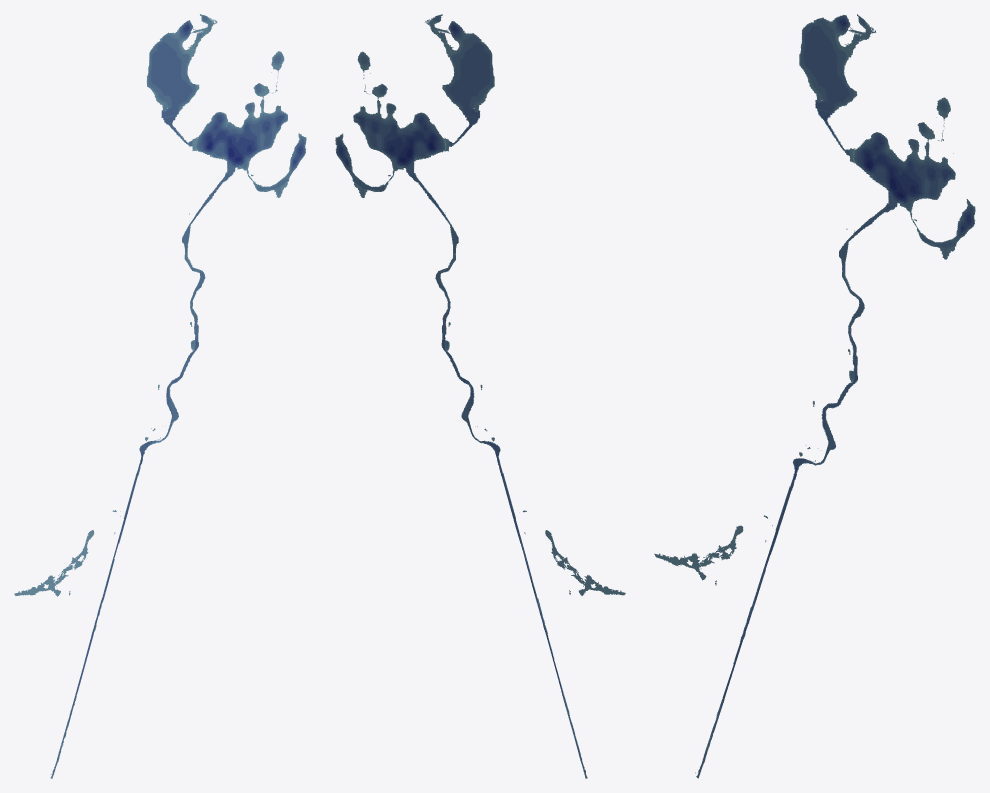
File: triangle_mesh.glb
3 views of the same model, side by side, from view 1: azimuth 30°, elevation 25°; view 2: azimuth 150°, elevation 25°; view 3: azimuth 330°, elevation 25° (orthographic). The views are drawn at different scales.
Visible parts, largest first — view 1: world; view 2: world; view 3: world.
Part boxes in pixels (x1,y1,x2,y2): world: [14, 14, 306, 778]; world: [335, 14, 625, 778]; world: [654, 14, 975, 778].
Bounding box in the file's own units: 1147 × 2739 × 13.99.
